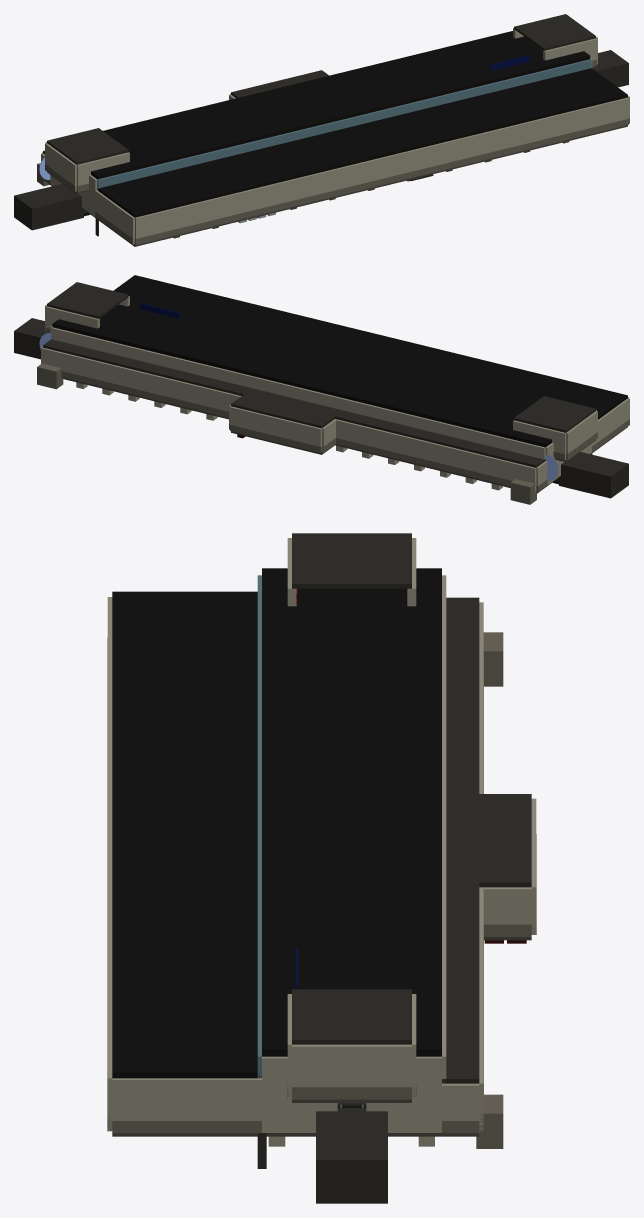
File: 11_LowerBay.obj
3 views of the same model, one above another, from view 1: azimuth 30°, elevation 25°; view 2: azimuth 150°, elevation 25°; view 3: azimuth 270°, elevation 25° (orthographic). The views are drawn at different scales.
Visible parts, largest first — view 1: roof, wall, glasswall, shell, floor; view 2: roof, wall, shell, prop, floor, pier, glass; view 3: roof, wall, shell, glasswall, prop, floor.
Boxes of the visible parts, left/top/right/bottom form: roof: left=43, top=14, right=627, bottom=217; wall: left=41, top=28, right=629, bottom=244; glasswall: left=95, top=59, right=591, bottom=236; shell: left=14, top=50, right=628, bottom=230; floor: left=43, top=66, right=627, bottom=246; roof: left=43, top=275, right=627, bottom=467; wall: left=41, top=296, right=629, bottom=492; shell: left=14, top=318, right=628, bottom=498; prop: left=37, top=363, right=536, bottom=504; floor: left=62, top=377, right=627, bottom=493; pier: left=76, top=382, right=502, bottom=490; glass: left=39, top=333, right=558, bottom=480; roof: left=112, top=533, right=531, bottom=1083; wall: left=107, top=538, right=536, bottom=1133; shell: left=262, top=575, right=446, bottom=1203; glasswall: left=257, top=575, right=266, bottom=1168; prop: left=476, top=632, right=526, bottom=1148; floor: left=112, top=937, right=531, bottom=1136.
Size of the model in its own units: 92 by 10.95 by 28.63.
